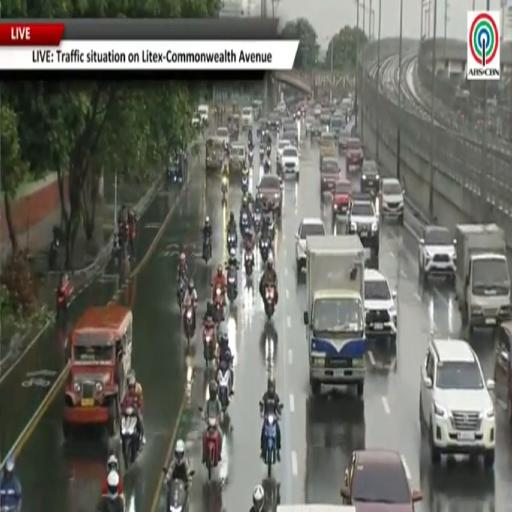car: (419, 338, 495, 468), (341, 450, 422, 511), (364, 269, 397, 344), (347, 195, 379, 265), (419, 226, 456, 281), (494, 320, 511, 425), (296, 218, 326, 275), (379, 179, 404, 225), (257, 175, 282, 217), (320, 157, 339, 198), (332, 179, 351, 219), (360, 160, 380, 197), (280, 146, 299, 180), (346, 138, 363, 173), (276, 139, 293, 170), (280, 128, 299, 147), (338, 125, 350, 155), (330, 116, 345, 139), (216, 126, 230, 146), (242, 107, 254, 129), (257, 118, 269, 139), (269, 112, 280, 133), (198, 105, 209, 125), (310, 119, 321, 138), (321, 107, 331, 127), (304, 116, 314, 135), (276, 102, 286, 114), (314, 104, 321, 119)
jeepney: (63, 303, 132, 438), (206, 137, 224, 170), (319, 132, 336, 166), (230, 144, 247, 174), (228, 115, 240, 141)
motorcycle: (120, 408, 140, 470), (203, 418, 220, 479), (264, 413, 277, 477), (166, 478, 188, 511), (217, 368, 231, 411), (56, 288, 69, 327), (203, 328, 216, 367), (98, 495, 124, 511), (213, 286, 224, 323), (227, 265, 238, 302), (184, 307, 194, 346), (48, 237, 59, 270), (177, 276, 187, 310), (265, 286, 275, 319), (259, 237, 270, 263), (264, 216, 275, 241), (202, 236, 212, 263), (240, 210, 250, 236), (245, 251, 254, 277), (168, 167, 182, 183), (227, 232, 237, 252), (222, 176, 228, 204), (254, 211, 261, 232), (242, 175, 248, 194), (248, 150, 254, 166), (264, 159, 270, 174), (259, 146, 264, 162), (248, 139, 253, 152), (267, 146, 271, 157)
truck: (304, 235, 366, 396), (455, 223, 510, 332)
